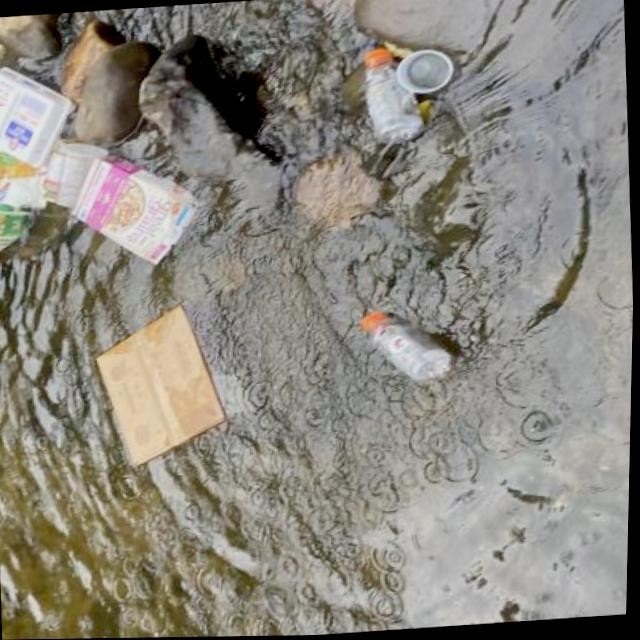Cardboard: (85, 291, 247, 473), (68, 140, 216, 279), (0, 59, 76, 259)
Plastic: (354, 33, 465, 151), (351, 300, 465, 393)
